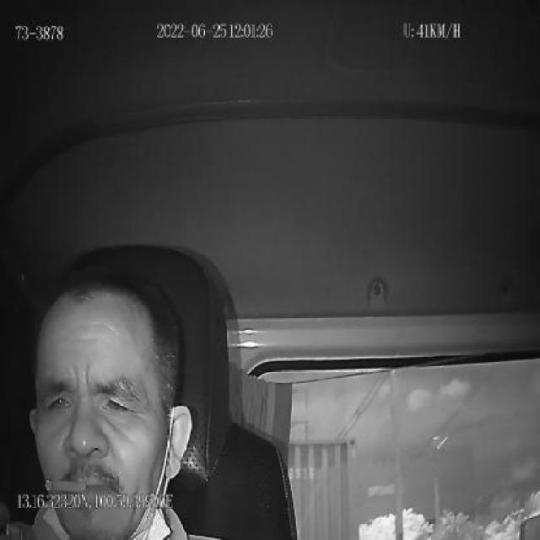smoking: (43, 478, 87, 491)
